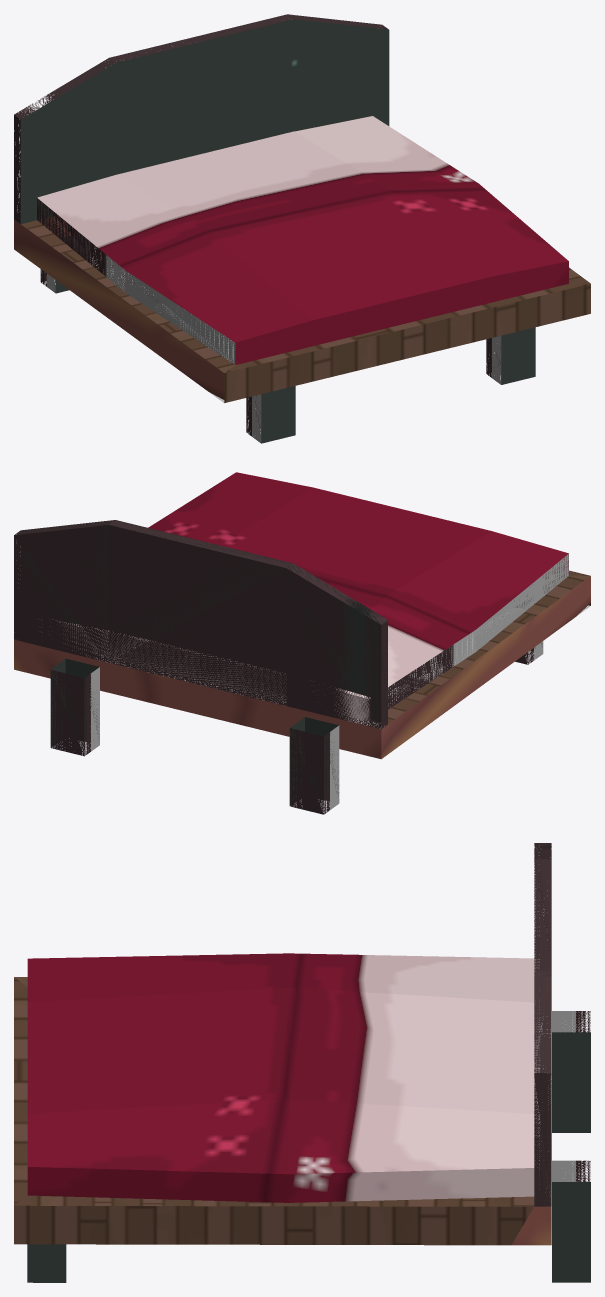
Rendered from CamaVermelha.fbx.
The picture shows the model from 3 angles, top to bottom: view 1: azimuth 30°, elevation 25°; view 2: azimuth 150°, elevation 25°; view 3: azimuth 270°, elevation 25°; orthographic projection. The views are drawn at different scales.
Visible parts, largest first — view 1: CamaVermelha; view 2: CamaVermelha; view 3: CamaVermelha.
Boxes of the visible parts, bbox=[...] form: CamaVermelha: bbox=[14, 14, 590, 443]; CamaVermelha: bbox=[14, 472, 590, 814]; CamaVermelha: bbox=[14, 843, 590, 1282].
Size of the model in its own units: 204 by 217 by 118.
